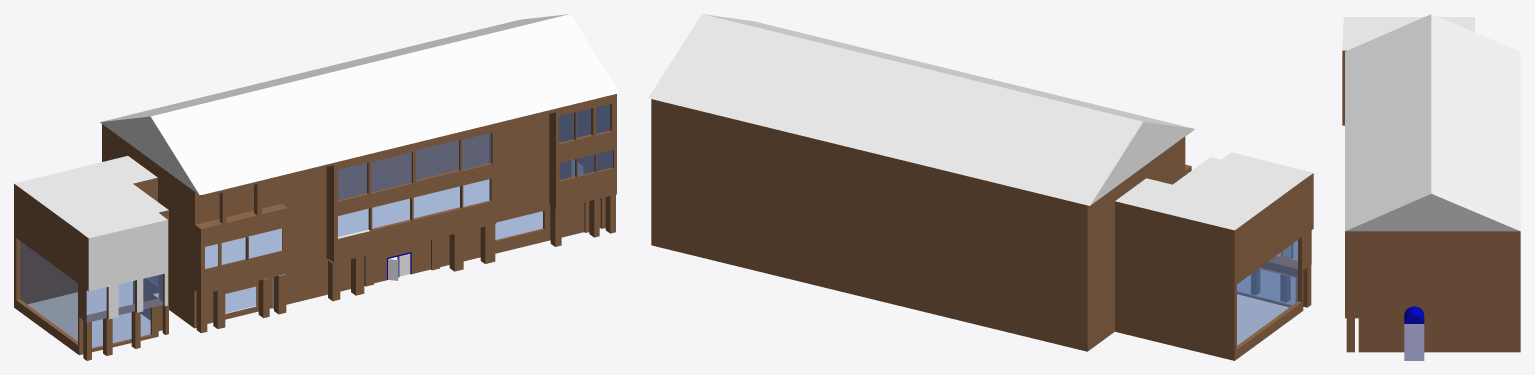
The model's file is e-gebaude.obj.
3 views of the same model, side by side, from view 1: azimuth 30°, elevation 25°; view 2: azimuth 150°, elevation 25°; view 3: azimuth 270°, elevation 25° (orthographic). The views are drawn at different scales.
Parts seen in each view (by area): view 1: Mesh5 Model, Mesh12 Model, Mesh11 Model, Mesh10 Model, Mesh9 Model, Mesh8 Model, Mesh6 Model; view 2: Mesh5 Model; view 3: Mesh5 Model, Mesh13 Model.
Part boxes in pixels (bbox=[...]): Mesh5 Model: bbox=[14, 14, 619, 355]; Mesh12 Model: bbox=[480, 224, 495, 263]; Mesh11 Model: bbox=[449, 232, 463, 271]; Mesh10 Model: bbox=[351, 256, 364, 295]; Mesh9 Model: bbox=[328, 259, 340, 301]; Mesh8 Model: bbox=[274, 274, 286, 314]; Mesh6 Model: bbox=[213, 289, 225, 328]; Mesh5 Model: bbox=[648, 14, 1313, 360]; Mesh5 Model: bbox=[1342, 14, 1520, 360]; Mesh13 Model: bbox=[1346, 318, 1354, 352].
Size of the model in its own units: 169 by 53.63 by 54.26.
